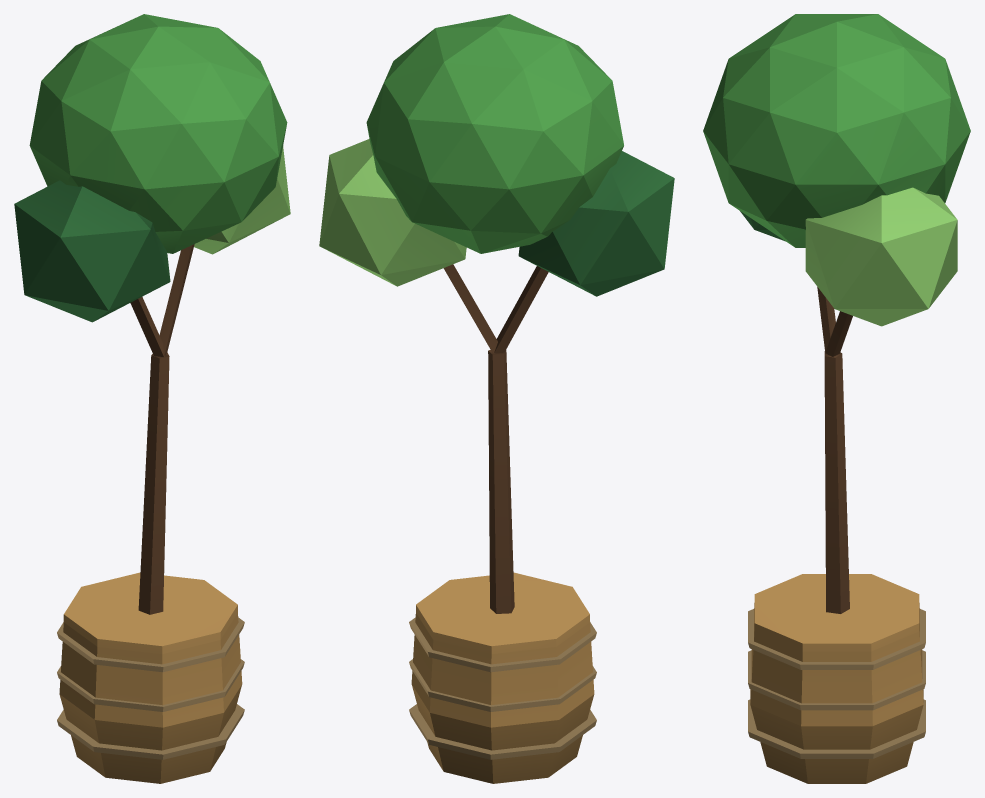
The model's file is plant_ficus_01.glb.
3 renders of one model, left to right at view 1: azimuth 30°, elevation 25°; view 2: azimuth 150°, elevation 25°; view 3: azimuth 270°, elevation 25°, orthographic.
Parts seen in each view (by area): view 1: plant_ficus_01_mesh; view 2: plant_ficus_01_mesh; view 3: plant_ficus_01_mesh.
Boxes of the visible parts, x1,y1,x2,y2 form: plant_ficus_01_mesh: [14, 14, 290, 783]; plant_ficus_01_mesh: [319, 14, 674, 783]; plant_ficus_01_mesh: [703, 14, 970, 783].
Bounding box in the file's own units: 0.7778 × 1.82 × 0.6.
1 material, 1 textured.
